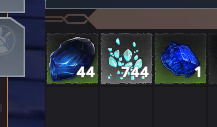ethereal dust: (101, 33, 152, 84)
sapphire gem: (155, 33, 205, 84)
